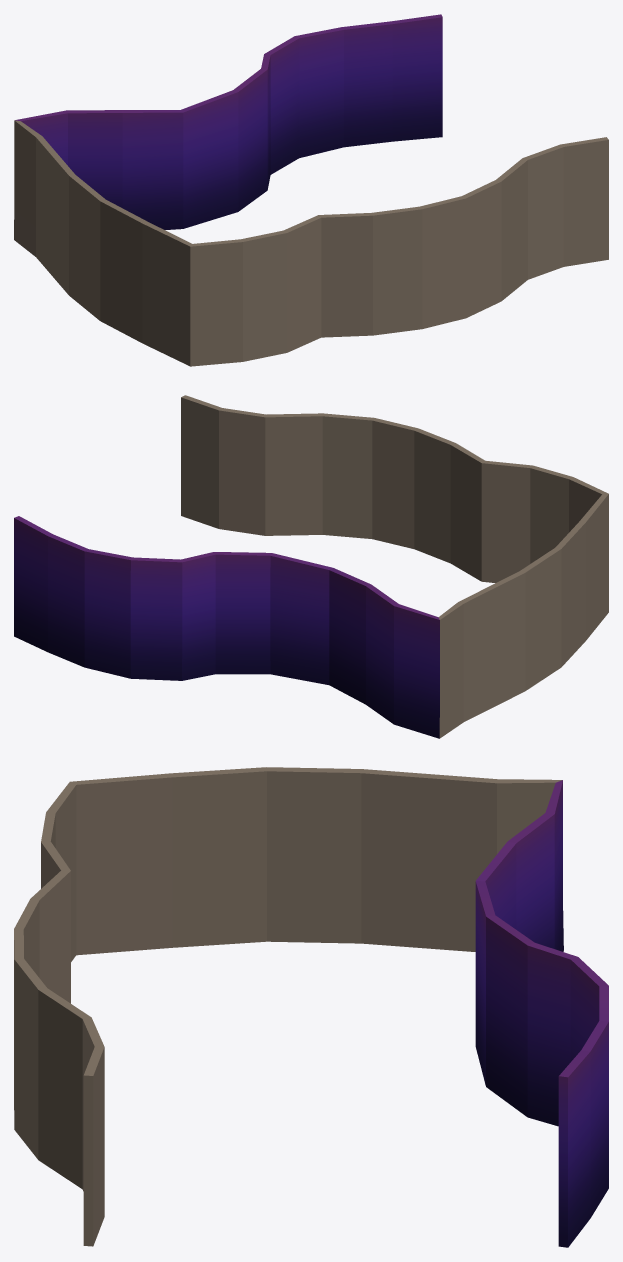
Rendered from PurpleCliffsComplexShapeCollider.gltf.
The picture shows the model from 3 angles, top to bottom: view 1: azimuth 30°, elevation 25°; view 2: azimuth 150°, elevation 25°; view 3: azimuth 270°, elevation 25°; orthographic projection. The views are drawn at different scales.
Parts seen in each view (by area): view 1: ComplexWallCollider-colonly; view 2: ComplexWallCollider-colonly; view 3: ComplexWallCollider-colonly.
Boxes of the visible parts, x1=… form: ComplexWallCollider-colonly: x1=14, y1=14, x2=608, y2=366; ComplexWallCollider-colonly: x1=14, y1=395, x2=608, y2=738; ComplexWallCollider-colonly: x1=14, y1=767, x2=608, y2=1247.
Size of the model in its own units: 556 by 144 by 451.
1 material, 1 textured.
